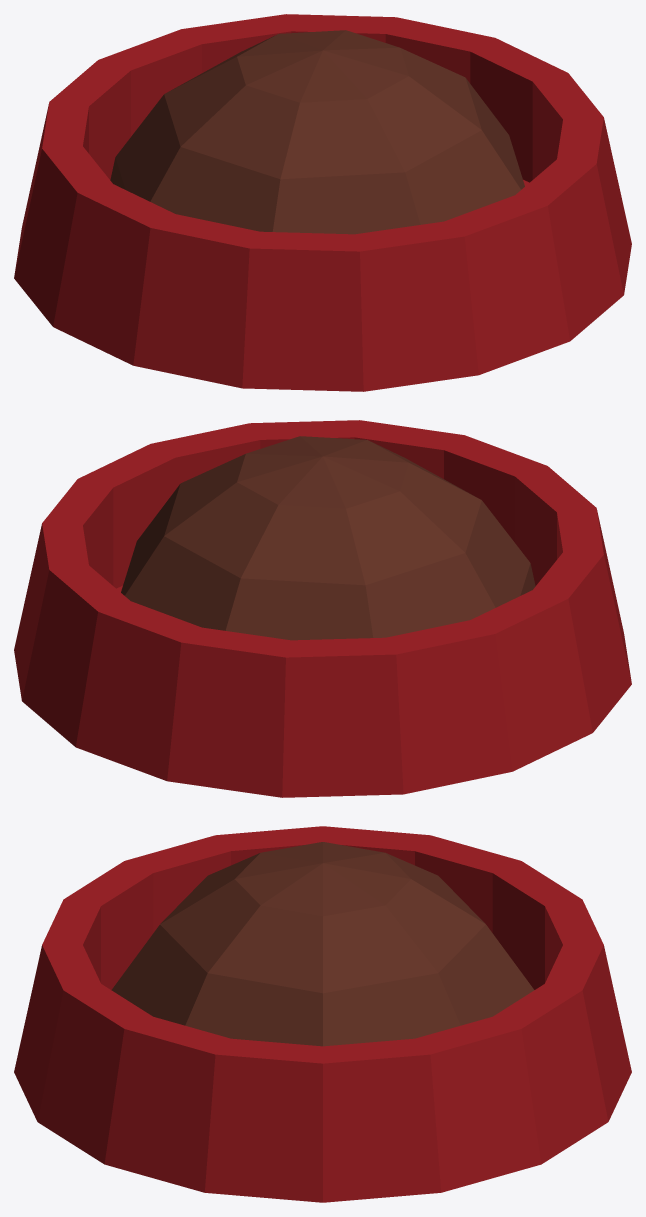
Rendered from MichaZZarciem.fbx.
The picture shows the model from 3 angles, top to bottom: view 1: azimuth 30°, elevation 25°; view 2: azimuth 150°, elevation 25°; view 3: azimuth 270°, elevation 25°; orthographic projection.
Visible parts, largest first — view 1: Cylinder, Sphere; view 2: Cylinder, Sphere; view 3: Cylinder, Sphere.
Part boxes in pixels (box(x1,y1,x2,y2)): Cylinder: box(14, 14, 631, 391); Sphere: box(110, 30, 524, 234); Cylinder: box(14, 420, 631, 797); Sphere: box(121, 436, 535, 640); Cylinder: box(14, 826, 631, 1202); Sphere: box(111, 842, 534, 1046).
Size of the model in its own units: 22 by 8.21 by 22.
